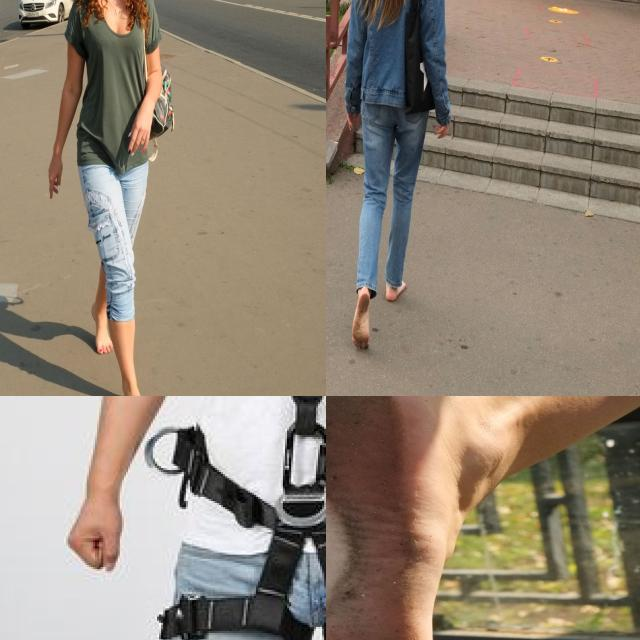Barefoots: (326, 396, 434, 640), (91, 302, 114, 354), (352, 289, 370, 349), (386, 281, 406, 301), (122, 385, 151, 396)
Harness: (181, 396, 326, 640)
